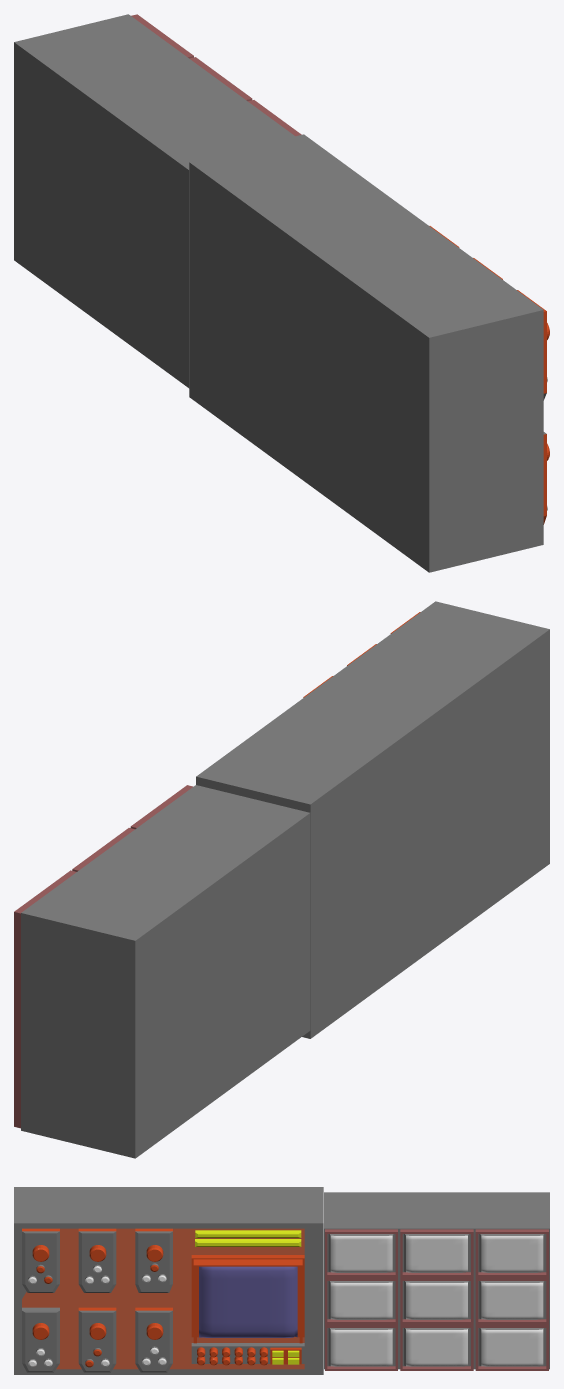
The model's file is RetroComputer_Station.fbx.
The picture shows the model from 3 angles, top to bottom: view 1: azimuth 30°, elevation 25°; view 2: azimuth 150°, elevation 25°; view 3: azimuth 270°, elevation 25°; orthographic projection. The views are drawn at different scales.
Visible parts, largest first — view 1: Television_Retro, Television_Retro_SideMount; view 2: Television_Retro_SideMount, Television_Retro; view 3: Television_Retro, Television_Retro_SideMount.
Boxes of the visible parts, box(x1,y1,x2,y2) form: Television_Retro: box(189, 134, 549, 572); Television_Retro_SideMount: box(14, 14, 301, 388); Television_Retro_SideMount: box(14, 785, 310, 1158); Television_Retro: box(196, 601, 549, 1038); Television_Retro: box(14, 1187, 323, 1374); Television_Retro_SideMount: box(324, 1192, 549, 1370).
Size of the model in its own units: 63.52 by 99.9 by 320.
